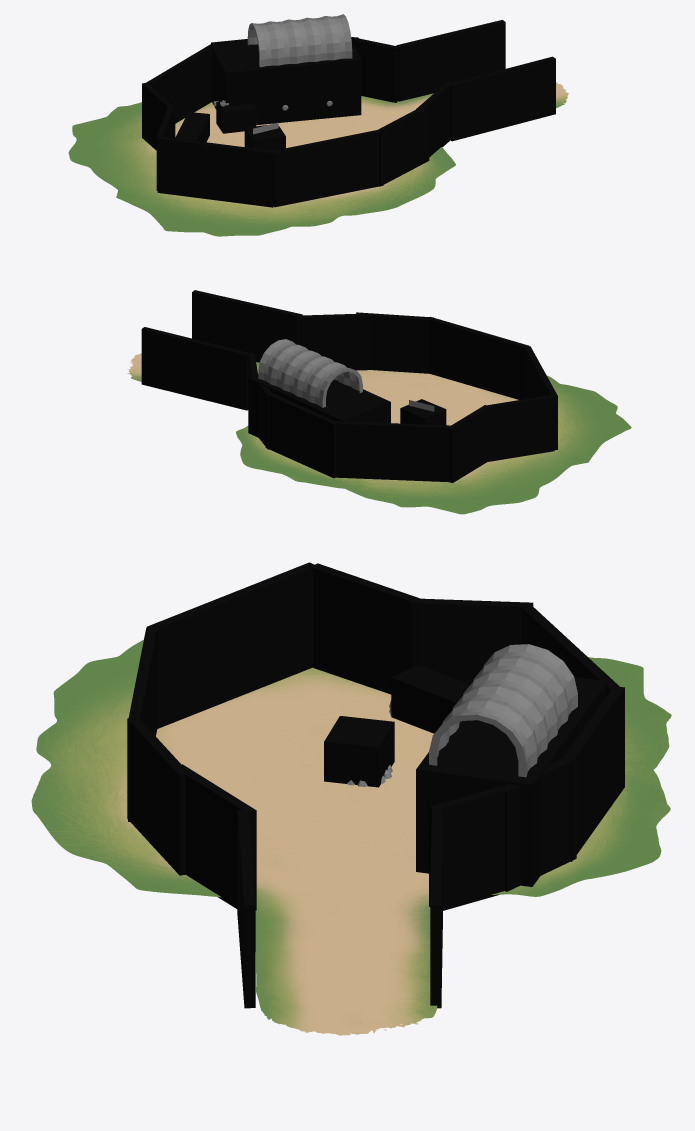
File: map0.fbx
The picture shows the model from 3 angles, top to bottom: view 1: azimuth 30°, elevation 25°; view 2: azimuth 150°, elevation 25°; view 3: azimuth 270°, elevation 25°; orthographic projection. The views are drawn at different scales.
Parts seen in each view (by area): view 1: Box003, basecamp, carriage; view 2: Box003, basecamp, carriage; view 3: Box003, basecamp, carriage.
Boxes of the visible parts, left/top/right/bottom form: Box003: left=142, top=20, right=555, bottom=207; basecamp: left=68, top=82, right=568, bottom=236; carriage: left=213, top=14, right=352, bottom=110; Box003: left=141, top=290, right=557, bottom=482; basecamp: left=127, top=353, right=631, bottom=514; carriage: left=258, top=339, right=362, bottom=407; Box003: left=127, top=562, right=624, bottom=1008; basecamp: left=31, top=639, right=671, bottom=1035; carriage: left=429, top=644, right=577, bottom=777.
Bounding box in the file's own units: 1032 × 165 × 590.
